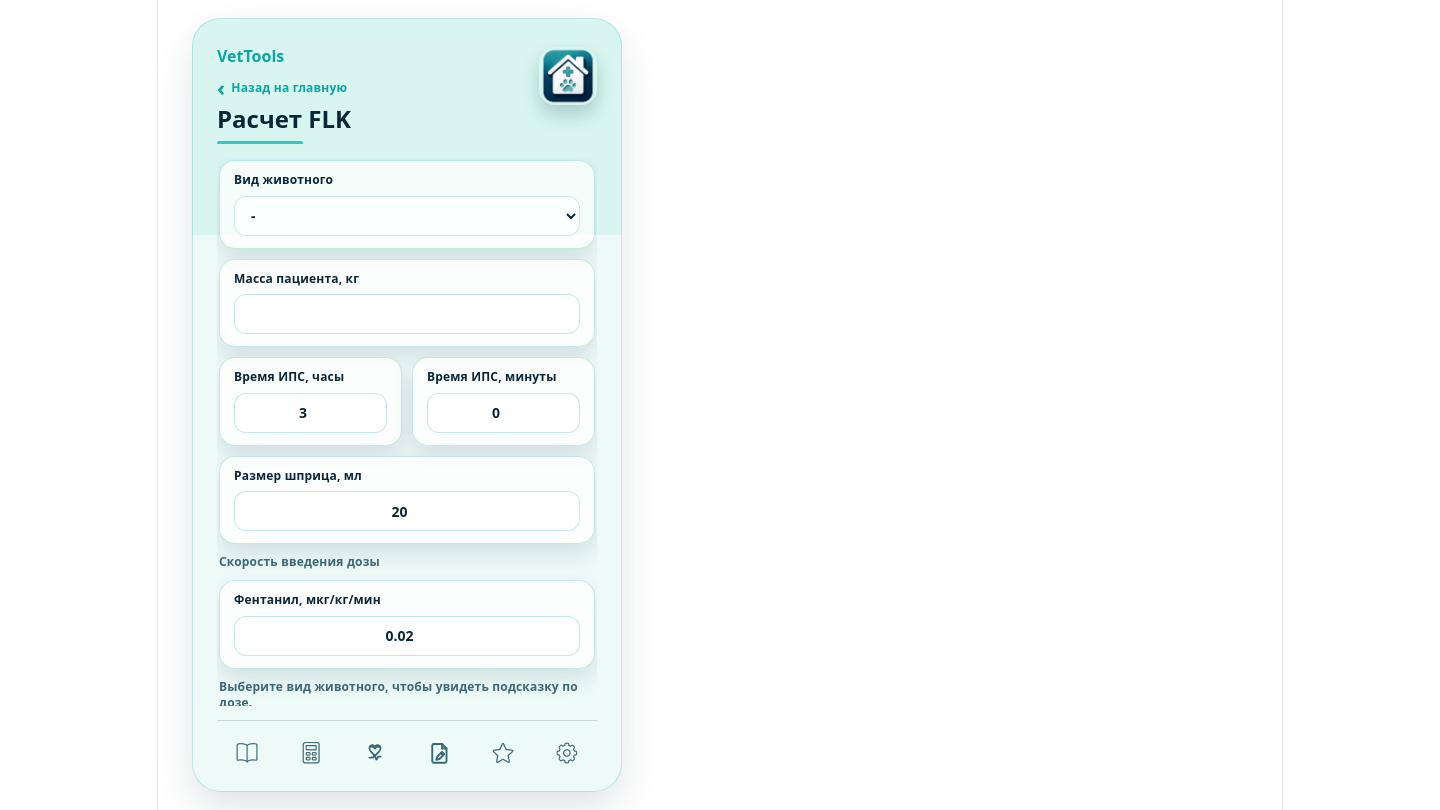
it: FlkPage › calculates FLK composition and does not render weight converter
expect the heading "Расчет FLK" is shown: met, box [217,106,351,144]
expect the dropdown labelled "Вид животного" shows "-": met, box [234,196,580,236]
In the number field labelled "Масса пациента, кг": (407, 314) [234,294,580,334], type "34.5"
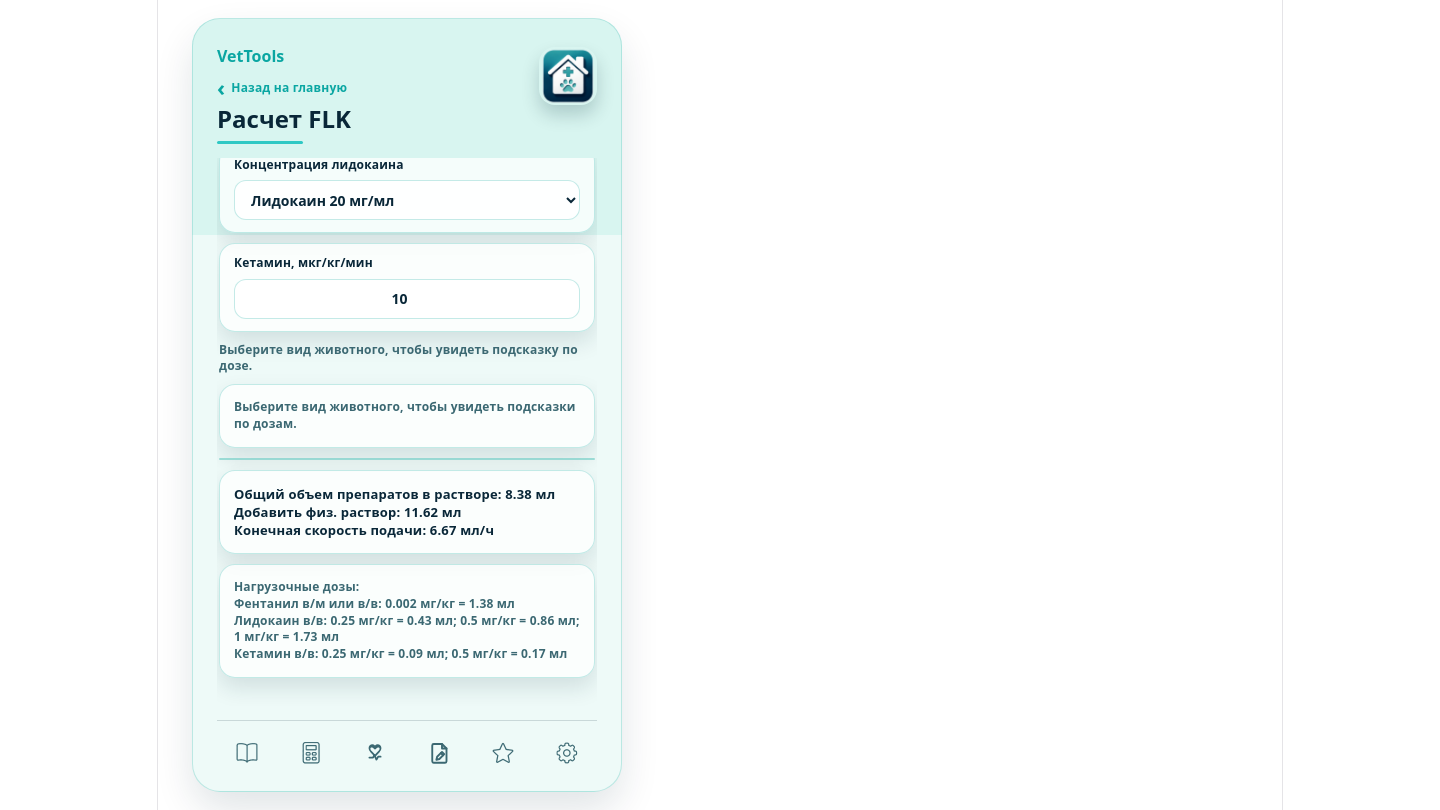
expect the text "Конечная скорость подачи: 6.67 мл/ч" is shown: met, box [234,484,555,539]
